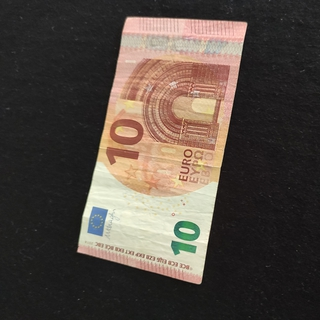10EUROFront: (75, 16, 248, 284)
